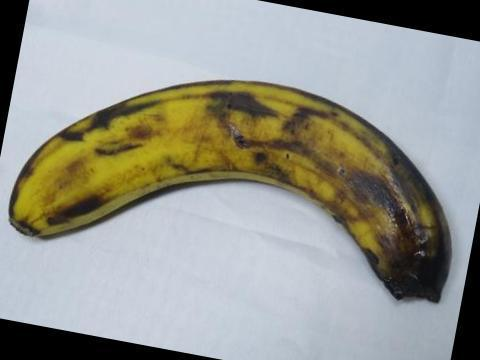overripe: (5, 58, 469, 344)
rotten: (318, 158, 477, 322)
